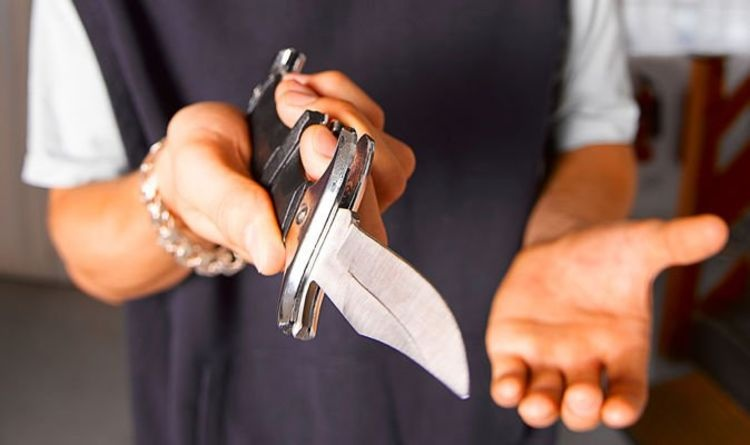knife: (235, 45, 472, 402)
